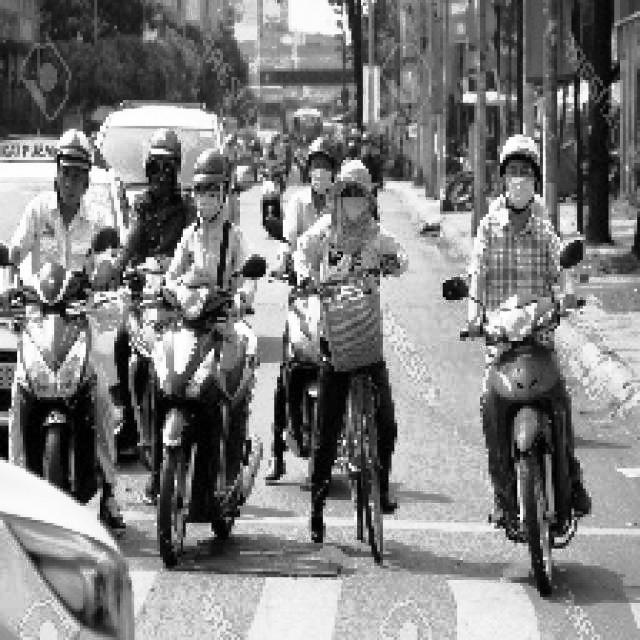Bike: (143, 307, 261, 531), (482, 285, 580, 551), (10, 269, 98, 493)
